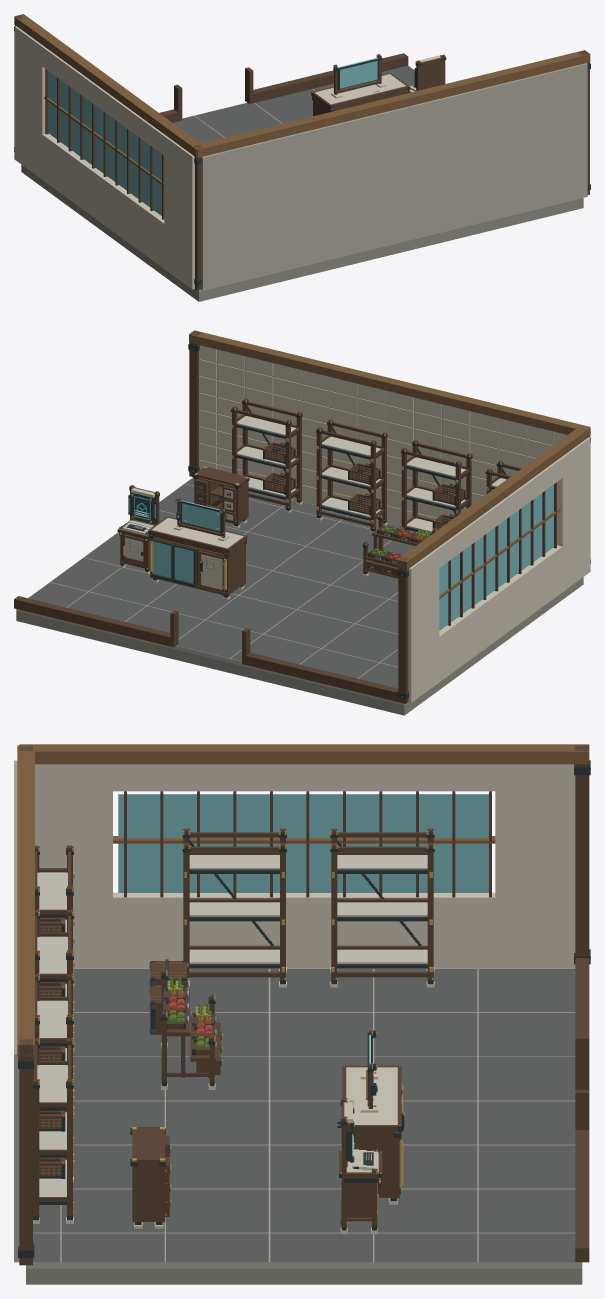
File: visual-far.glb
The picture shows the model from 3 angles, top to bottom: view 1: azimuth 30°, elevation 25°; view 2: azimuth 150°, elevation 25°; view 3: azimuth 270°, elevation 25°; orthographic projection. The views are drawn at different scales.
Parts seen in each view (by area): view 1: 真实窗洞、木梁与切角房间墙, 分层实心台基与独立石铺面, 商铺公共售货柜台, 银行办理柜台屏, 货物取交签收终端; view 2: 真实窗洞、木梁与切角房间墙, 分层实心台基与独立石铺面, 商铺货架框架 (×3), 商铺公共售货柜台, 货物取交签收终端, 商铺抽屉与储物格, 实际库存食品陈列通用单元, 银行办理柜台屏; view 3: 分层实心台基与独立石铺面, 真实窗洞、木梁与切角房间墙, 商铺货架框架 (×6), 商铺公共售货柜台, 实际库存食品陈列通用单元, 商铺抽屉与储物格, 货物取交签收终端, 杂货包装箱, 银行办理柜台屏.
Boxes of the visible parts, left/top/right/bottom form: 真实窗洞、木梁与切角房间墙: left=14, top=14, right=590, bottom=290; 分层实心台基与独立石铺面: left=21, top=65, right=583, bottom=301; 商铺公共售货柜台: left=311, top=72, right=409, bottom=116; 银行办理柜台屏: left=331, top=54, right=385, bottom=98; 货物取交签收终端: left=408, top=54, right=446, bottom=92; 真实窗洞、木梁与切角房间墙: left=14, top=330, right=590, bottom=703; 分层实心台基与独立石铺面: left=16, top=477, right=583, bottom=715; 商铺货架框架 (×3): left=231, top=398, right=472, bottom=535; 商铺公共售货柜台: left=148, top=516, right=247, bottom=600; 货物取交签收终端: left=117, top=485, right=159, bottom=574; 商铺抽屉与储物格: left=193, top=466, right=249, bottom=528; 实际库存食品陈列通用单元: left=362, top=514, right=437, bottom=578; 银行办理柜台屏: left=173, top=498, right=229, bottom=541; 分层实心台基与独立石铺面: left=26, top=968, right=582, bottom=1284; 真实窗洞、木梁与切角房间墙: left=14, top=744, right=590, bottom=1265; 商铺货架框架 (×6): left=33, top=828, right=434, bottom=1223; 商铺公共售货柜台: left=337, top=1065, right=404, bottom=1204; 实际库存食品陈列通用单元: left=161, top=970, right=222, bottom=1089; 商铺抽屉与储物格: left=130, top=1127, right=171, bottom=1228; 货物取交签收终端: left=339, top=1097, right=382, bottom=1234; 杂货包装箱: left=149, top=959, right=190, bottom=989; 银行办理柜台屏: left=360, top=1030, right=377, bottom=1112.
Size of the model in its own units: 8.24 by 3.08 by 6.64.
28 materials, 28 textured.
